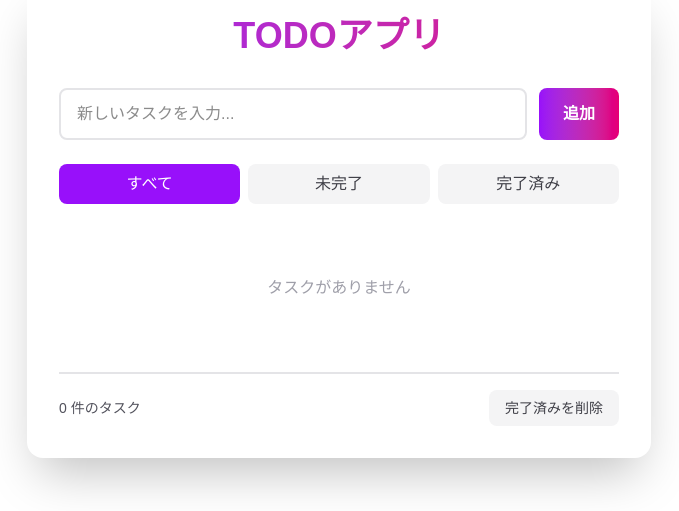
TodoList › タスクの完了切り替え › 完了状態のタスクを再度クリックすると未完了に戻ること
The image size is (679, 511).
Type "テストタスク" into the field with placeholder "新しいタスクを入力..." at (293, 114), box [59,88,527,140]
Then press Enter
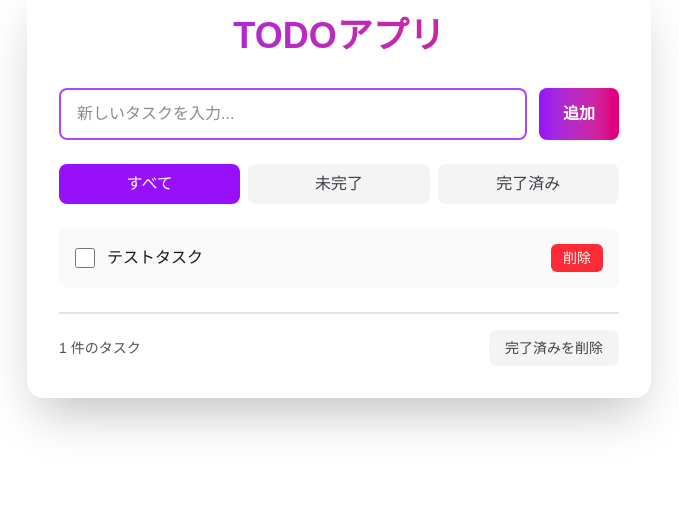
Click the checkbox at (85, 258), box [75,248,95,268]
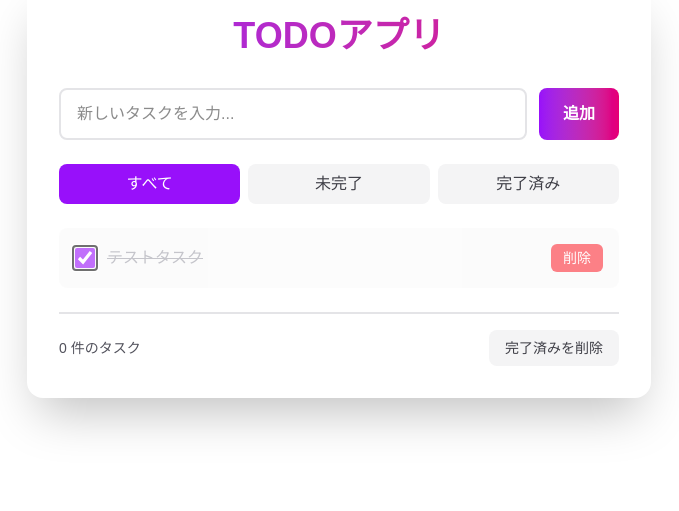
Expected: the checkbox is checked
Click the checkbox at (85, 258), box [75,248,95,268]
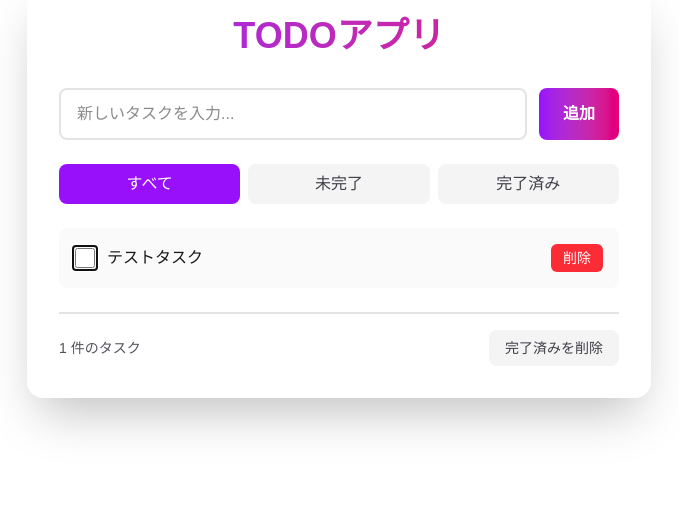
Expected: the checkbox is not checked, [75,248,95,268]
Expected: the text "1 件のタスク" is shown, [59,338,141,358]
